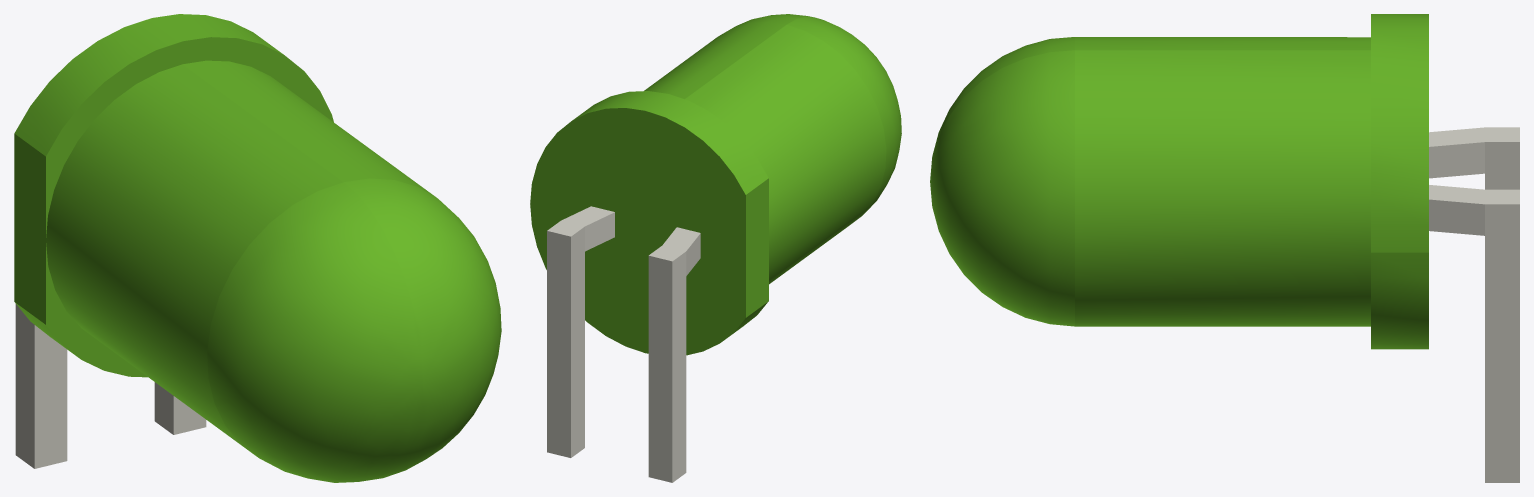
Rendered from kc-led_d5.0mm_horizontal_o1.27mm_z3.0mm.glb.
The picture shows the model from 3 angles, left to right: view 1: azimuth 30°, elevation 25°; view 2: azimuth 150°, elevation 25°; view 3: azimuth 270°, elevation 25°; orthographic projection. The views are drawn at different scales.
Parts seen in each view (by area): view 1: 0.16666666666666666_0.4166666666666667_0_0, 0.6666666666666666_0.6666666666666666_0.5833333333333334_0.8; view 2: 0.16666666666666666_0.4166666666666667_0_0, 0.6666666666666666_0.6666666666666666_0.5833333333333334_0.8; view 3: 0.16666666666666666_0.4166666666666667_0_0, 0.6666666666666666_0.6666666666666666_0.5833333333333334_0.8.
Boxes of the visible parts, <box> form: 0.16666666666666666_0.4166666666666667_0_0: <box>14,14,501,482</box>; 0.6666666666666666_0.6666666666666666_0.5833333333333334_0.8: <box>15,304,206,468</box>; 0.16666666666666666_0.4166666666666667_0_0: <box>530,14,901,355</box>; 0.6666666666666666_0.6666666666666666_0.5833333333333334_0.8: <box>547,206,700,482</box>; 0.16666666666666666_0.4166666666666667_0_0: <box>930,14,1428,349</box>; 0.6666666666666666_0.6666666666666666_0.5833333333333334_0.8: <box>1429,127,1519,482</box>.
Bounding box in the file's own units: 0.54 × 0.79 × 1.02.
